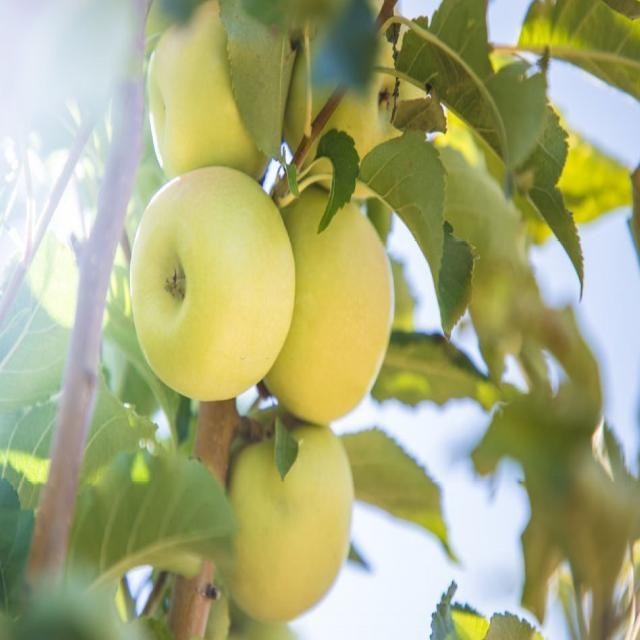Green Apple: (139, 180, 291, 386), (263, 190, 394, 416), (212, 418, 350, 612), (144, 1, 280, 172), (297, 13, 397, 165)
